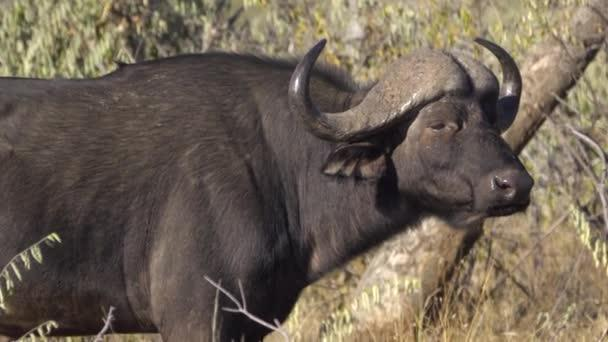Buffalo: (78, 16, 587, 286)
